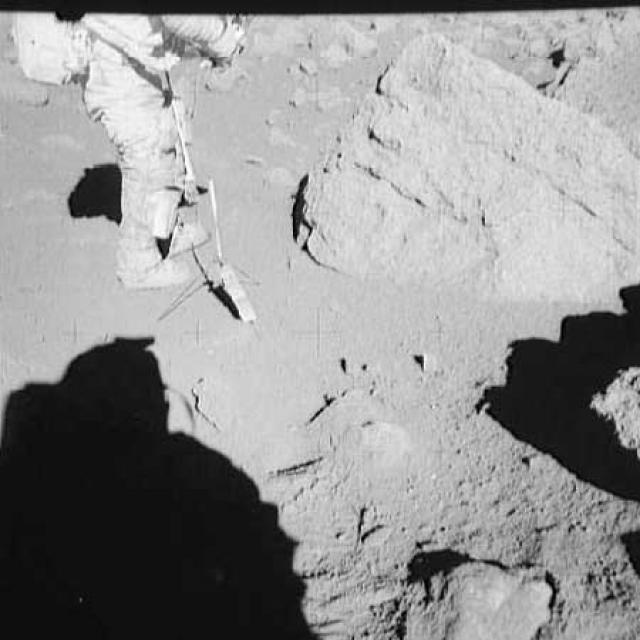artifact: (158, 172, 274, 324)
rock: (277, 34, 638, 304), (584, 360, 638, 468), (304, 15, 377, 67), (243, 9, 300, 58)
